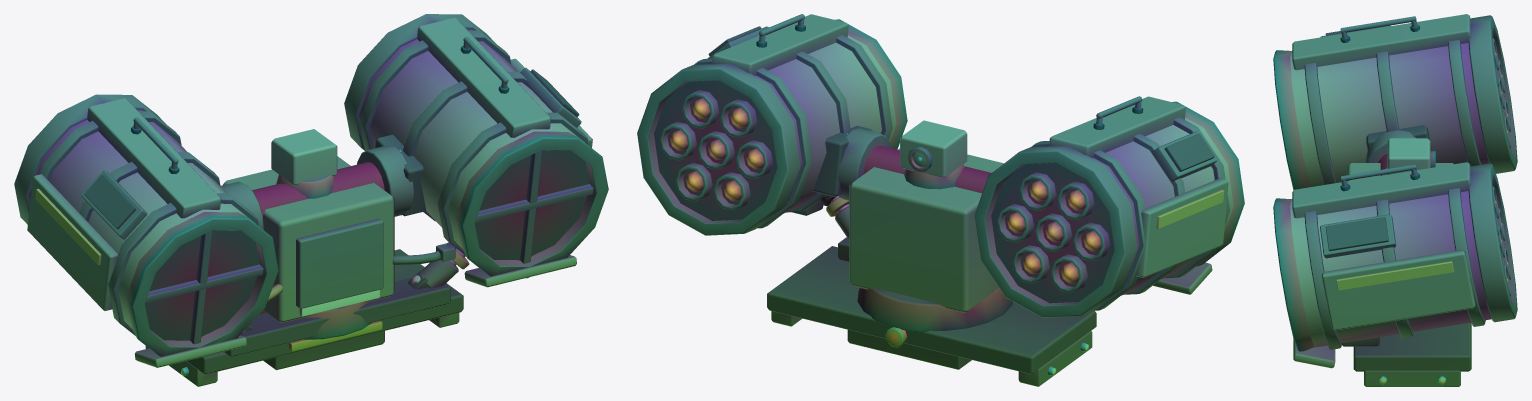
Rendered from back_rocket.glb.
3 renders of one model, left to right at view 1: azimuth 30°, elevation 25°; view 2: azimuth 150°, elevation 25°; view 3: azimuth 270°, elevation 25°, orthographic. The views are drawn at different scales.
Visible parts, largest first — view 1: Body__gunmetal, Body__dark, Body__armor_sub, Body__armor, Body__accent, Body__hazard; view 2: Body__gunmetal, Body__dark, Body__armor_sub, Body__armor, Body__accent, Body__brass; view 3: Body__gunmetal, Body__armor, Body__armor_sub, Body__dark, Body__accent.
Boxes of the visible parts, box(x1,y1,x2,y2) form: Body__gunmetal: box(14, 14, 608, 386); Body__dark: box(84, 45, 589, 374); Body__armor_sub: box(27, 17, 592, 367); Body__armor: box(29, 29, 584, 328); Body__accent: box(35, 188, 382, 351); Body__hazard: box(299, 290, 379, 316); Body__gunmetal: box(637, 14, 1244, 386); Body__dark: box(654, 24, 1214, 374); Body__armor_sub: box(712, 14, 1228, 313); Body__armor: box(755, 35, 1233, 295); Body__accent: box(670, 98, 1224, 283); Body__brass: box(708, 139, 1063, 347); Body__gunmetal: box(1273, 15, 1517, 386); Body__armor: box(1290, 43, 1491, 347); Body__armor_sub: box(1292, 14, 1475, 368); Body__dark: box(1325, 24, 1471, 371); Body__accent: box(1336, 52, 1508, 290).
Size of the model in its own units: 1.5 by 0.7594 by 0.7039.
